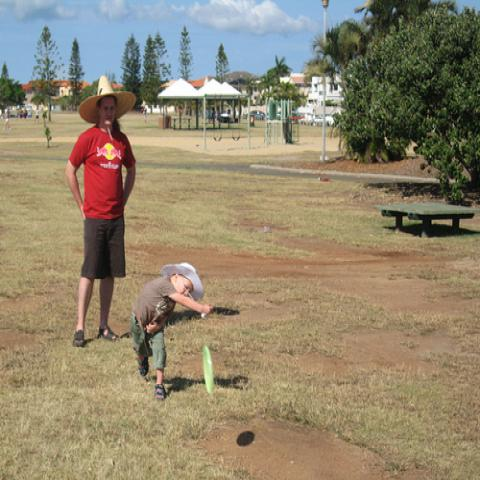car: (220, 107, 240, 124), (251, 110, 266, 120), (314, 115, 321, 126)
